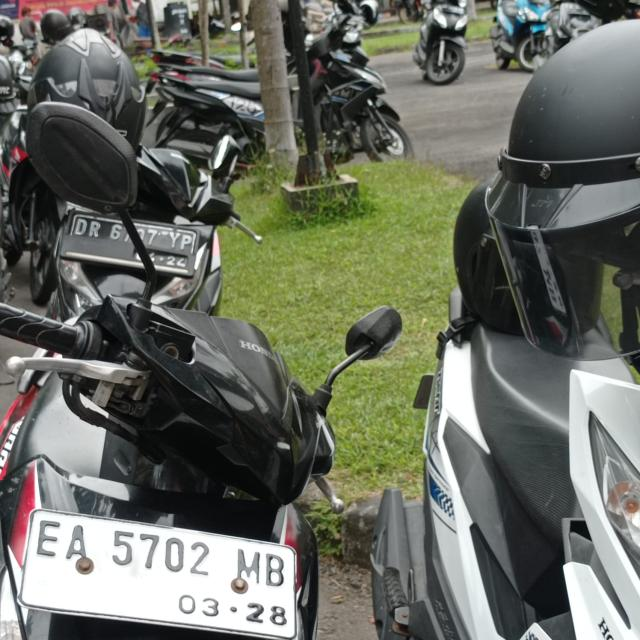plate: (20, 510, 295, 637), (56, 209, 198, 277)
